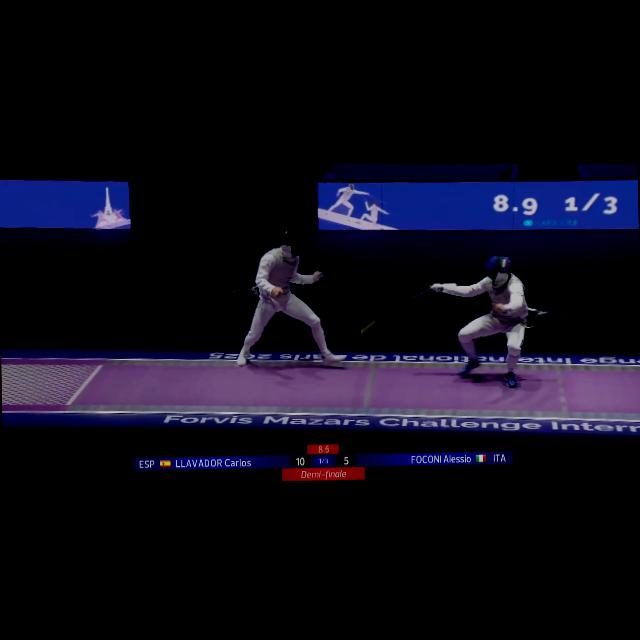blade: (354, 283, 442, 336)
